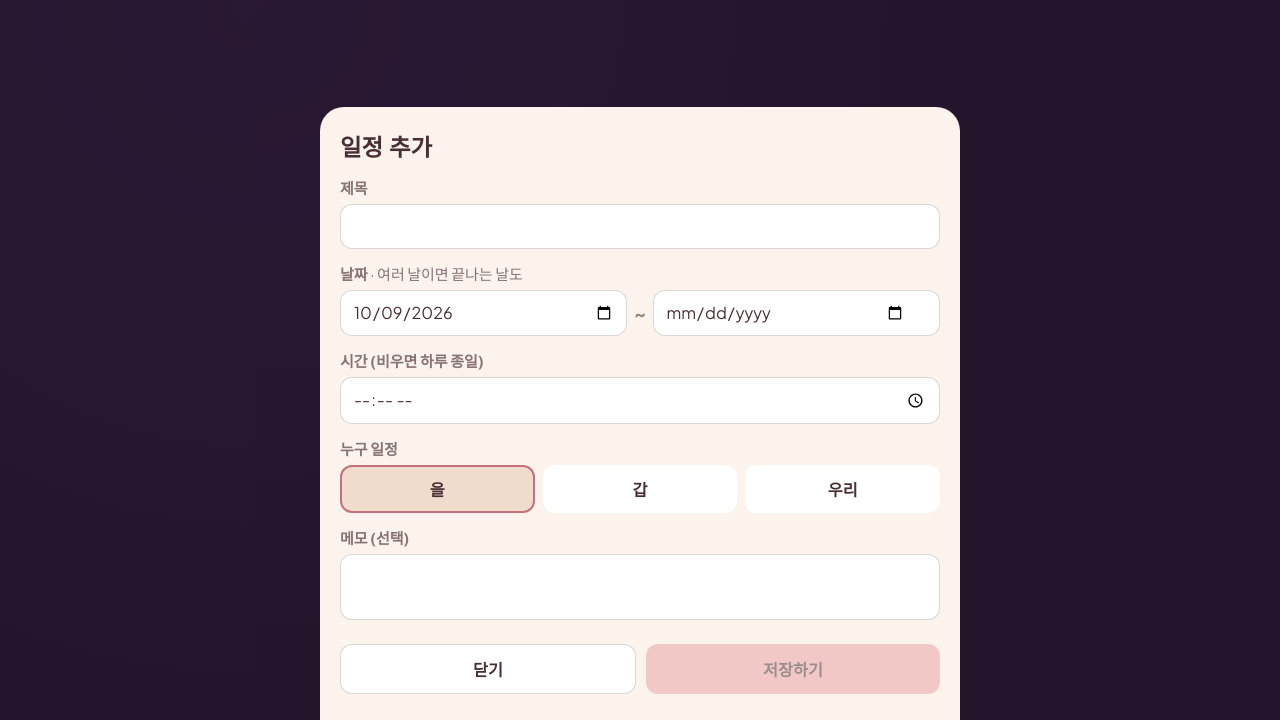
Test case: EventFormModal › will not save an end before the start
Type "여행" into the field labelled "제목".
click(640, 226); type("여행")  # box x1=340 y1=204 x2=940 y2=249
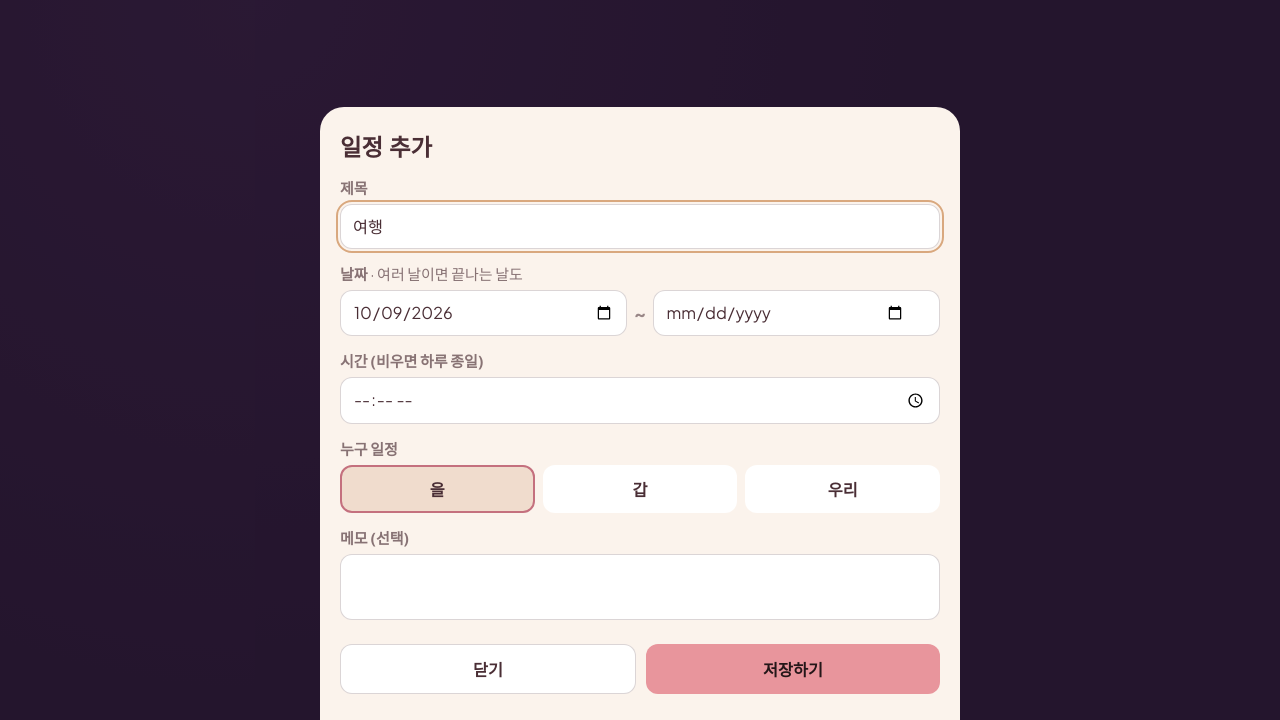
Type "2026-10-05" into the date field named "끝나는 날".
click(796, 313); type("2026-10-05")  # box x1=653 y1=290 x2=940 y2=336
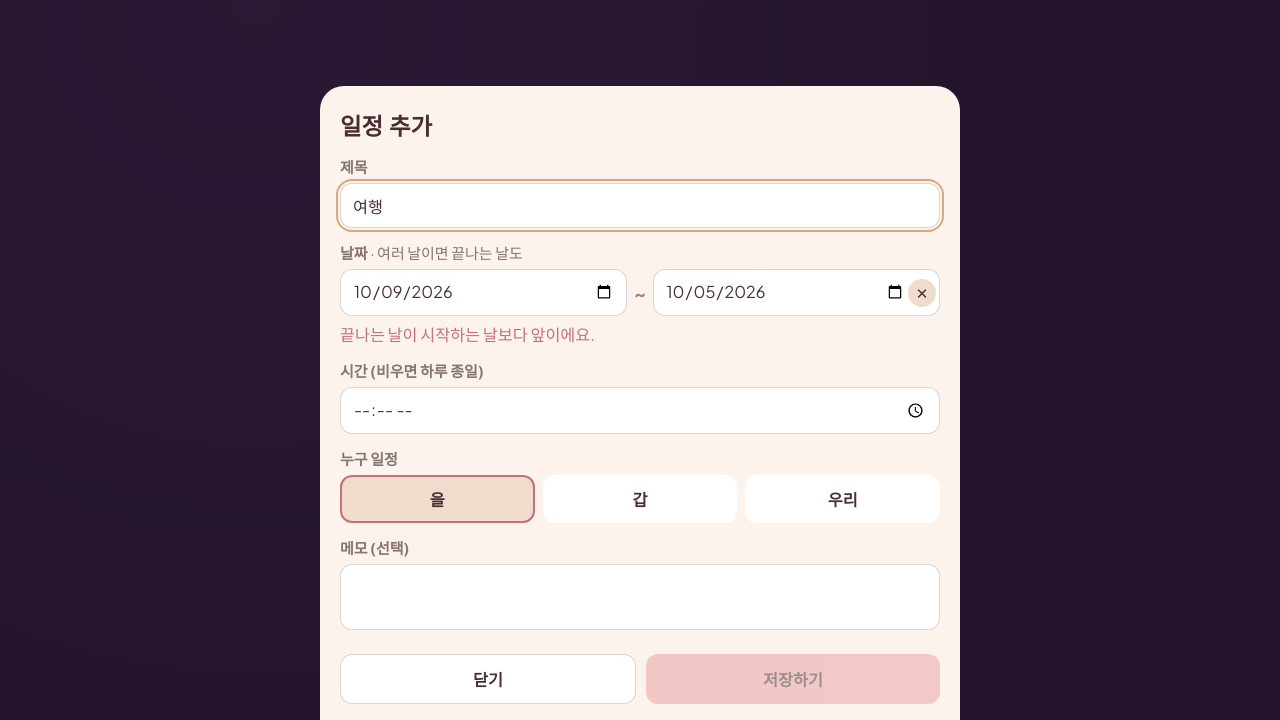
Result: the text "끝나는 날이 시작하는 날보다 앞이에요." is shown at x1=340 y1=324 x2=595 y2=345
Result: the button "저장하기" is disabled at x1=646 y1=654 x2=940 y2=704
